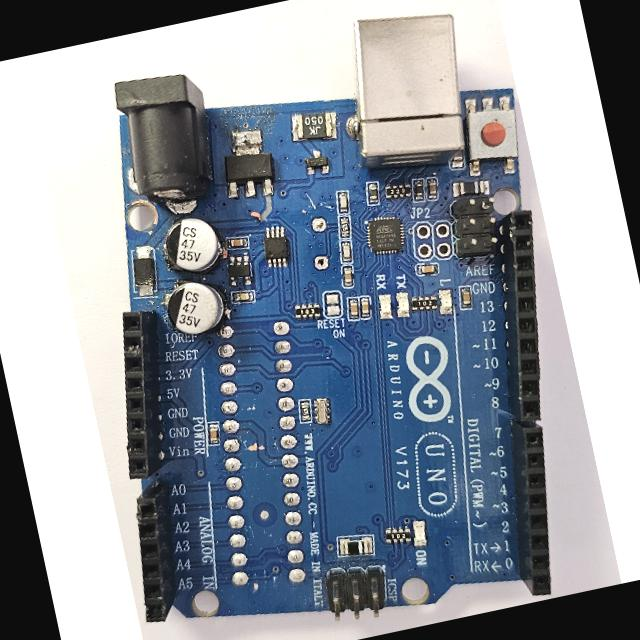missing_atmega: (216, 318, 307, 598)
missing_crystal_os: (298, 198, 335, 284)
